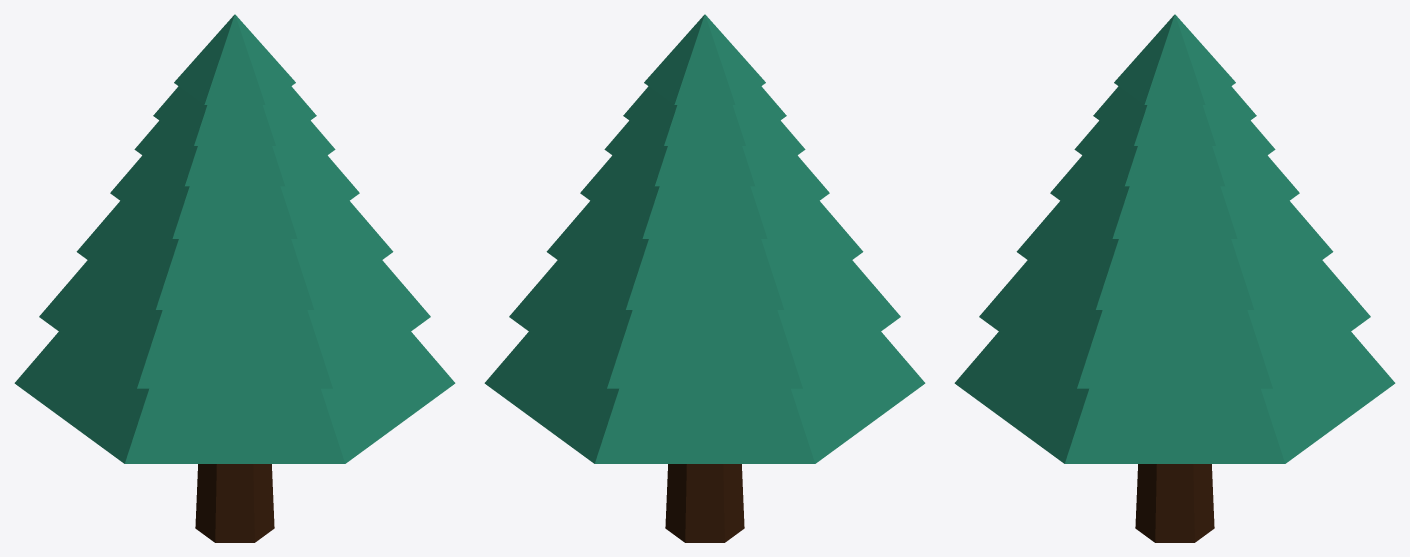
File: tree_2.fbx
3 views of the same model, side by side, from view 1: azimuth 30°, elevation 25°; view 2: azimuth 150°, elevation 25°; view 3: azimuth 270°, elevation 25° (orthographic).
Parts seen in each view (by area): view 1: Cylinder; view 2: Cylinder; view 3: Cylinder.
Part boxes in pixels (x1,y1,x2,y2): Cylinder: [14, 14, 455, 542]; Cylinder: [484, 14, 925, 542]; Cylinder: [954, 14, 1395, 542].
Size of the model in its own units: 404 by 601 by 467.
